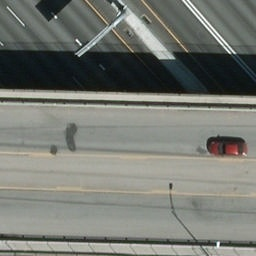car: (207, 141, 249, 158)
